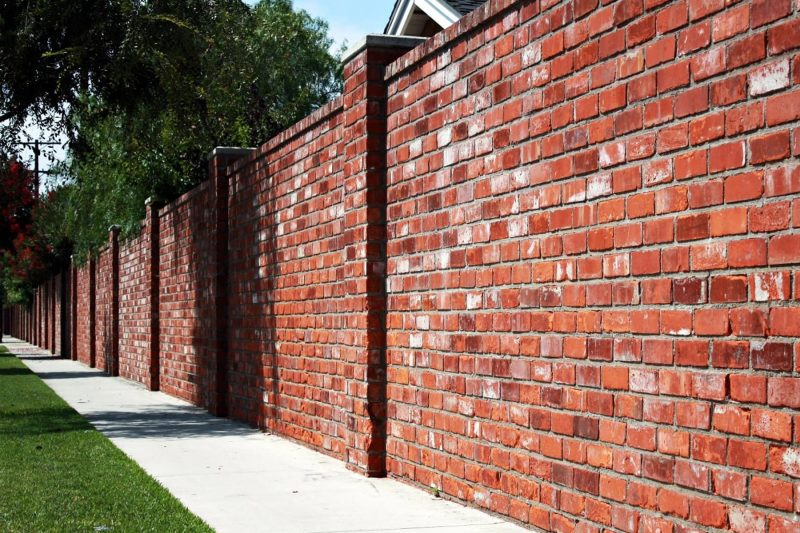Wall: (385, 65, 783, 474), (218, 174, 386, 415), (148, 226, 206, 390), (111, 242, 166, 378)
